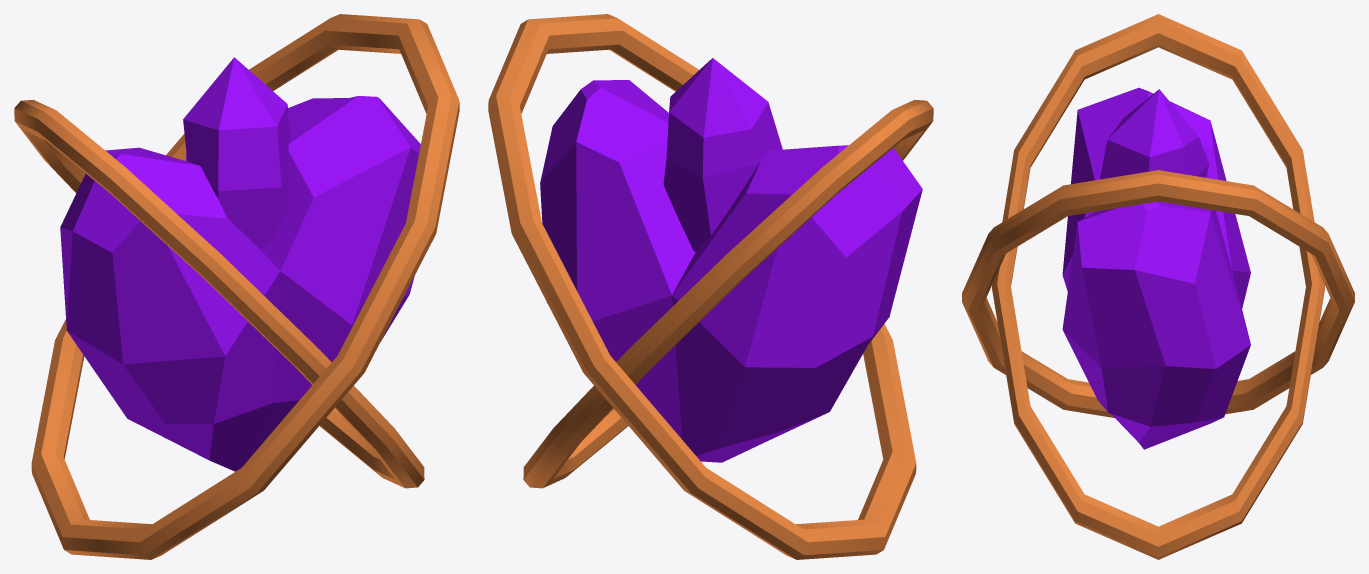
Rendered from Артефакт 1.fbx.
3 renders of one model, left to right at view 1: azimuth 30°, elevation 25°; view 2: azimuth 150°, elevation 25°; view 3: azimuth 270°, elevation 25°, orthographic. The views are drawn at different scales.
Visible parts, largest first — view 1: Cylinder, Circle.004, Circle.005; view 2: Cylinder, Circle.004, Circle.005; view 3: Cylinder, Circle.005, Circle.004.
Boxes of the visible parts, x1=… form: Cylinder: x1=60, y1=57, x2=420, y2=471; Circle.004: x1=31, y1=14, x2=459, y2=559; Circle.005: x1=14, y1=99, x2=424, y2=488; Cylinder: x1=540, y1=58, x2=922, y2=462; Circle.004: x1=488, y1=14, x2=916, y2=559; Circle.005: x1=523, y1=99, x2=933, y2=488; Cylinder: x1=1062, y1=87, x2=1250, y2=449; Circle.005: x1=992, y1=14, x2=1324, y2=559; Circle.004: x1=962, y1=170, x2=1354, y2=417.
Bounding box in the file's own units: 2019 × 2260 × 1999.
